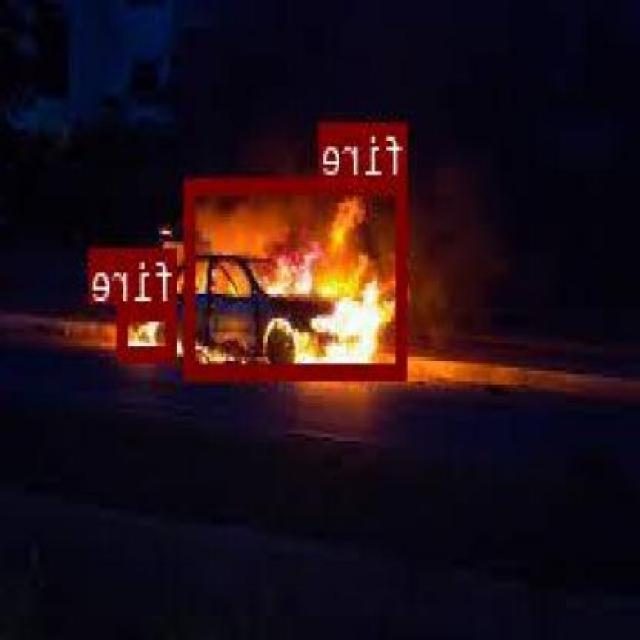Fire: (187, 176, 410, 375), (120, 302, 178, 361)
